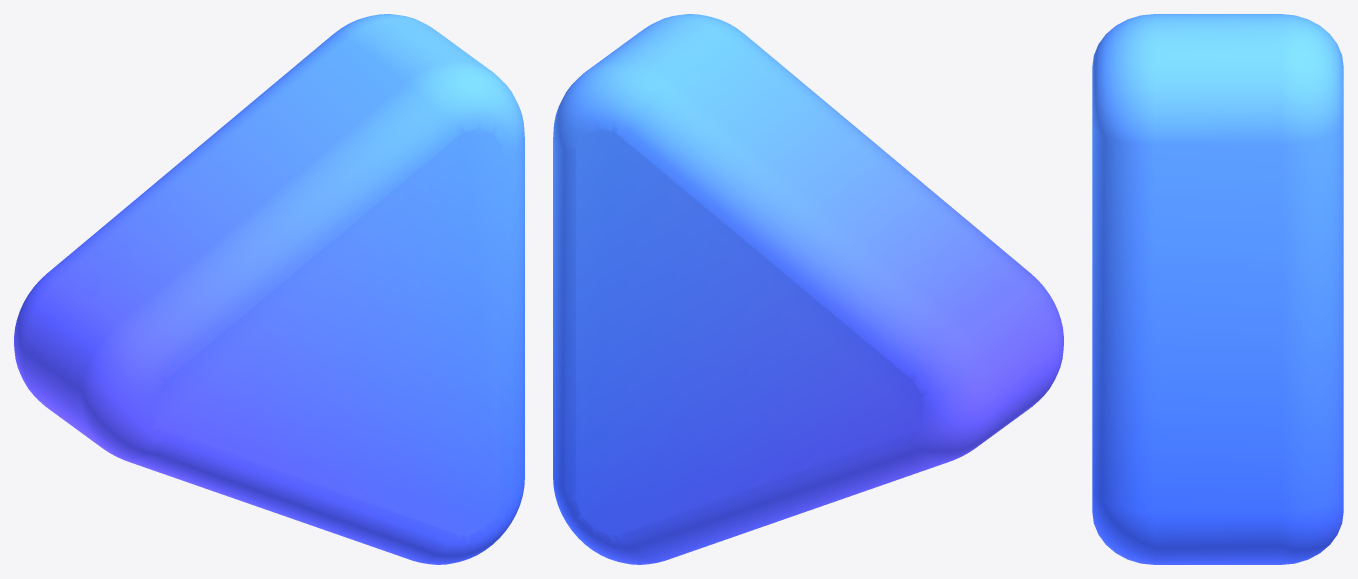
Rendered from play.glb.
3 renders of one model, left to right at view 1: azimuth 30°, elevation 25°; view 2: azimuth 150°, elevation 25°; view 3: azimuth 270°, elevation 25°, orthographic. The views are drawn at different scales.
Parts seen in each view (by area): view 1: play; view 2: play; view 3: play.
Boxes of the visible parts, bbox=[...] form: play: bbox=[14, 14, 524, 564]; play: bbox=[553, 14, 1063, 564]; play: bbox=[1092, 14, 1343, 564].
Size of the model in its own units: 0.0782 by 0.085 by 0.0363.
